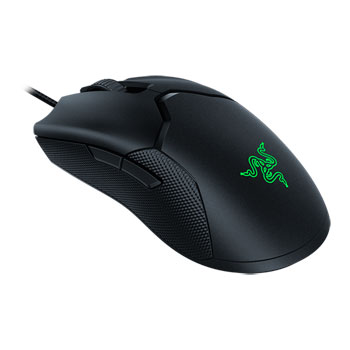Mouse: (29, 68, 334, 279)
